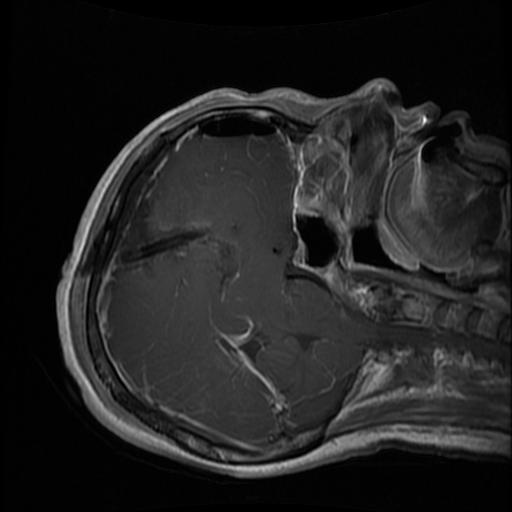glioma: (122, 194, 212, 265)
